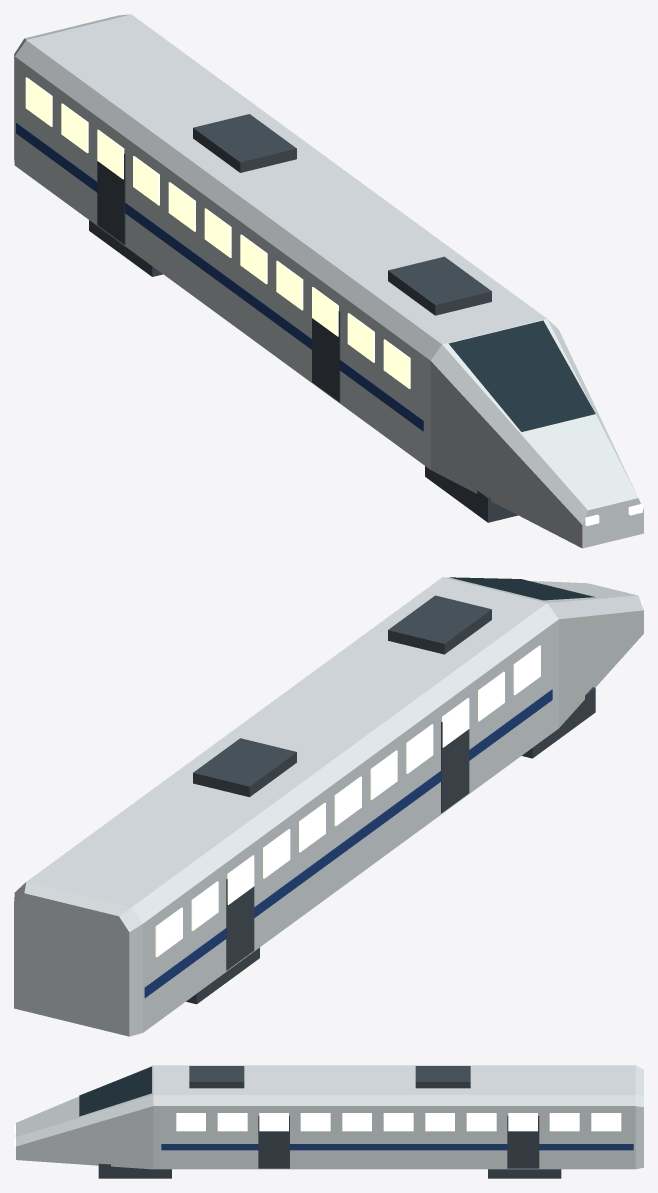
The model's file is shinkansen-cab.glb.
The picture shows the model from 3 angles, top to bottom: view 1: azimuth 30°, elevation 25°; view 2: azimuth 150°, elevation 25°; view 3: azimuth 270°, elevation 25°; orthographic projection. The views are drawn at different scales.
Size of the model in its own units: 3.37 by 3.77 by 24.07.
